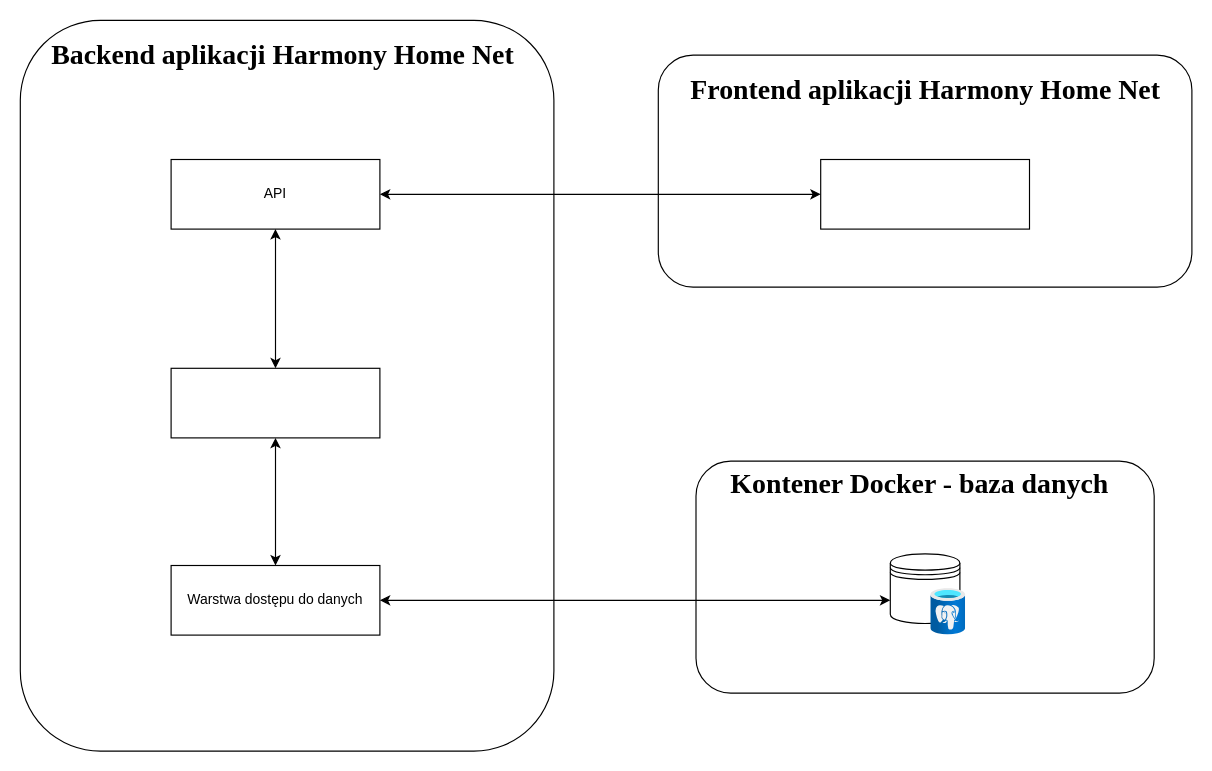
Image size: 1212x771. Some labels were removed from this diagram. The shapes that lost their labels are listed below. From the top down, each one's centre as x and y in pixels, then its label:
At (x=925, y=193): "Warstwa prezentacji".
At (x=275, y=402): "Warstwa logiki biznesowej".
